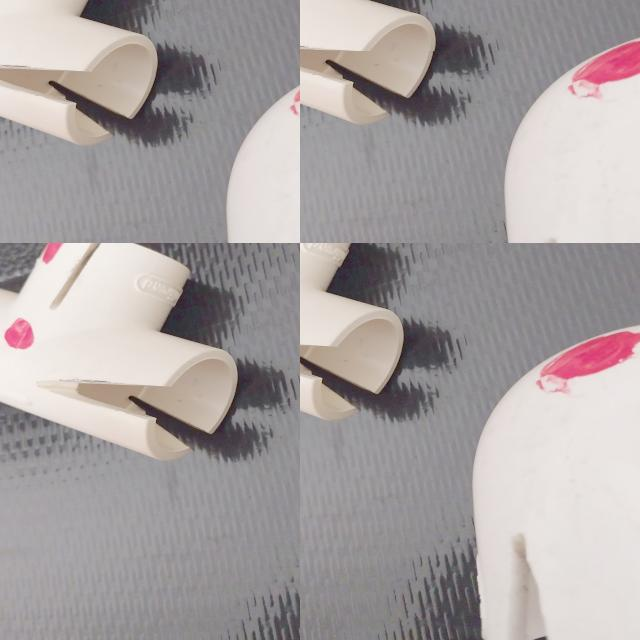Defective: (300, 336, 378, 407), (309, 186, 371, 240), (300, 339, 329, 382), (300, 78, 325, 112)
L Joint: (467, 310, 640, 638), (300, 53, 447, 236)
T Joint: (300, 243, 406, 429)
